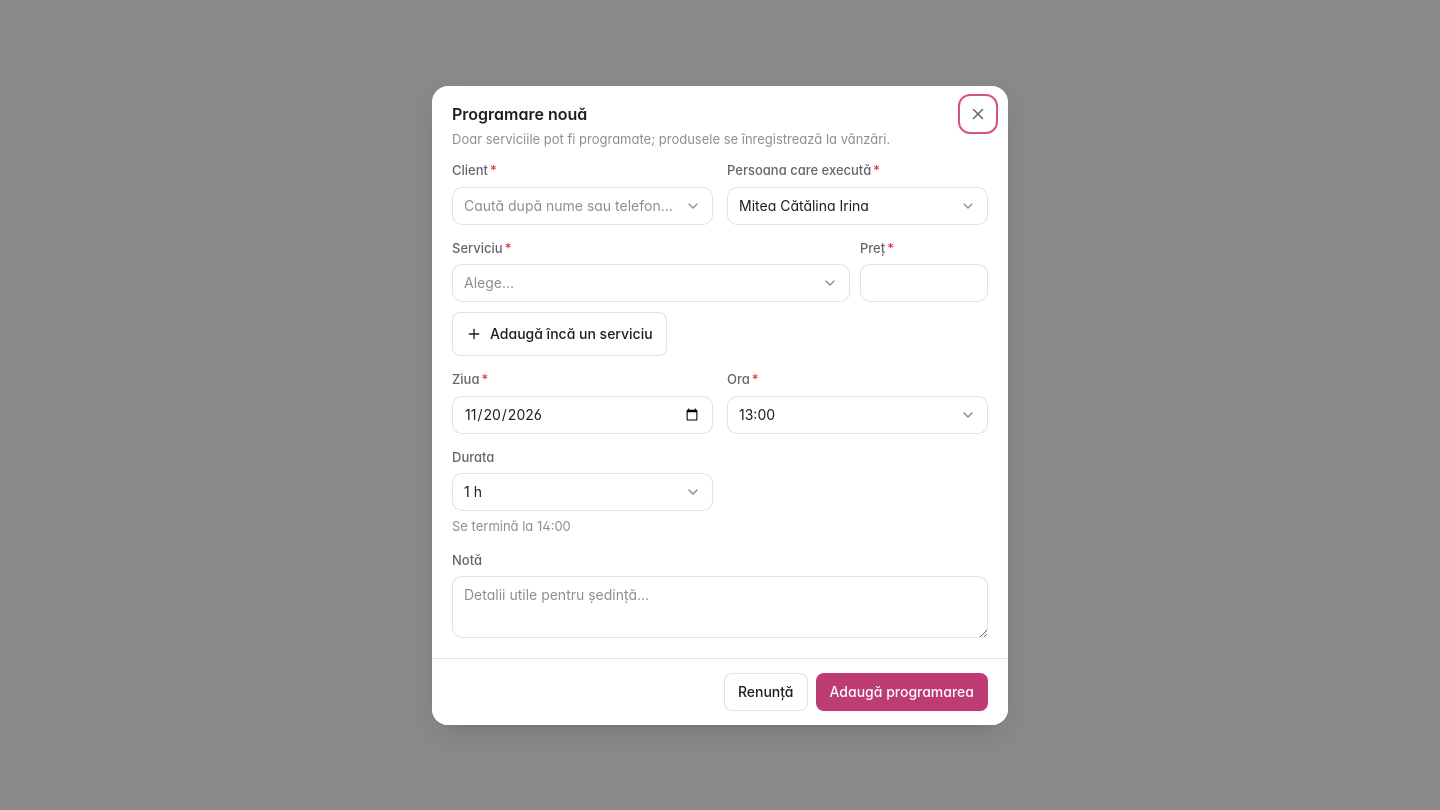
Test: serviciu nou din formularul de programare › administratorul îl creează cu durata și prețul implicite
Click the dropdown named "Serviciu" at (489, 282), box [452,264,850,302]
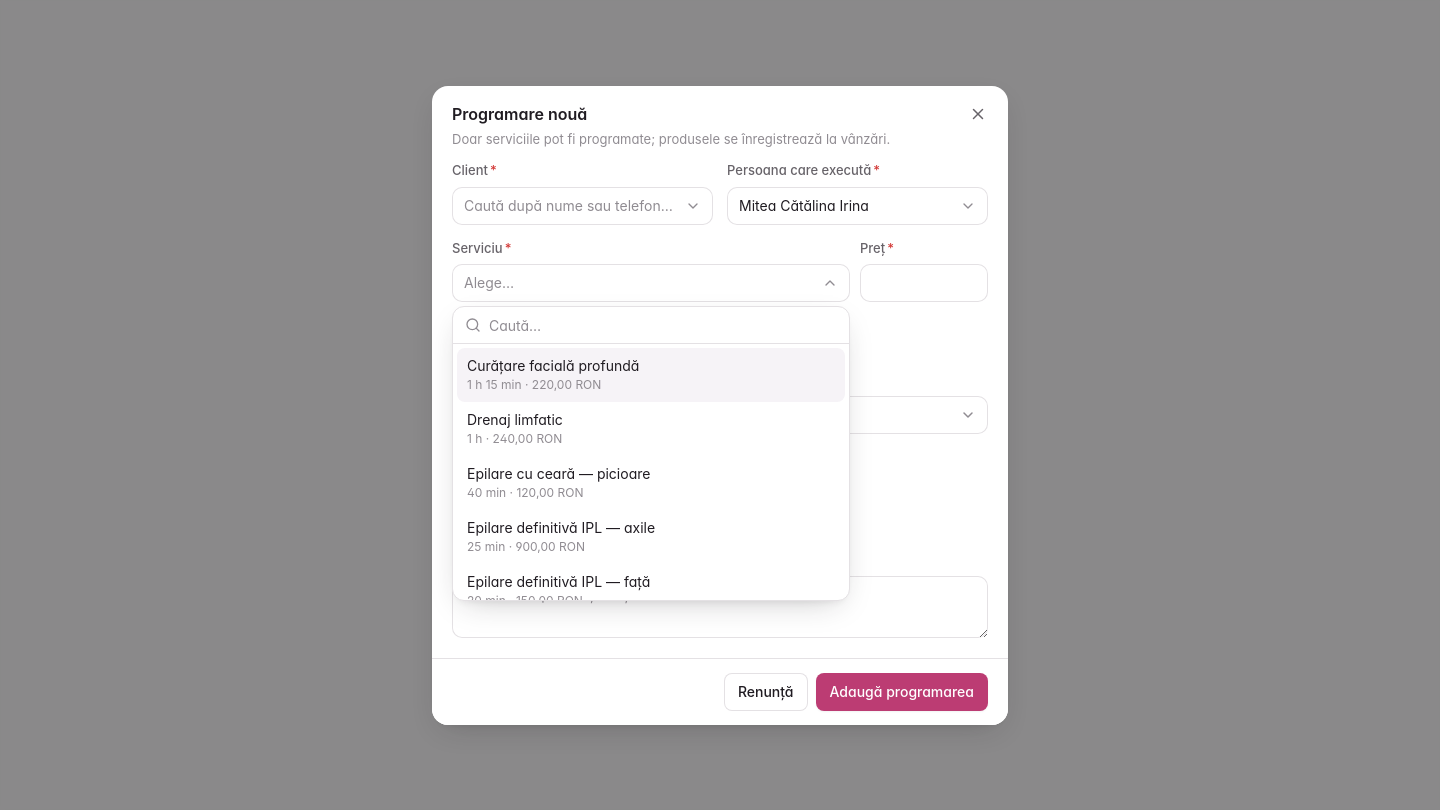
Type "Terapie Test Rapid" into the field named "Caută în listă" at (663, 325), box [489,307,837,343]
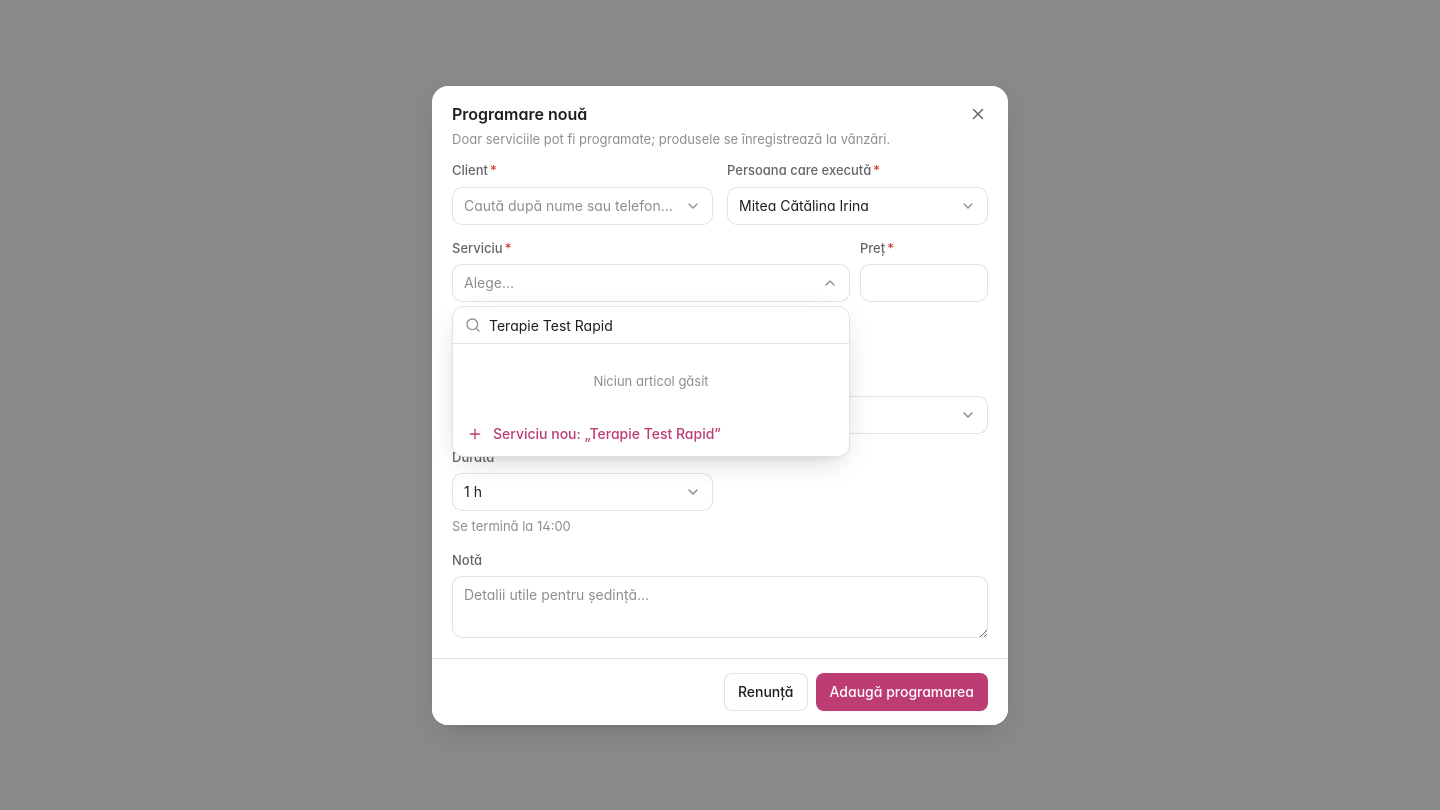
Click the button "Serviciu nou: „Terapie Test Rapid”" at (651, 434), box [457,416,845,452]
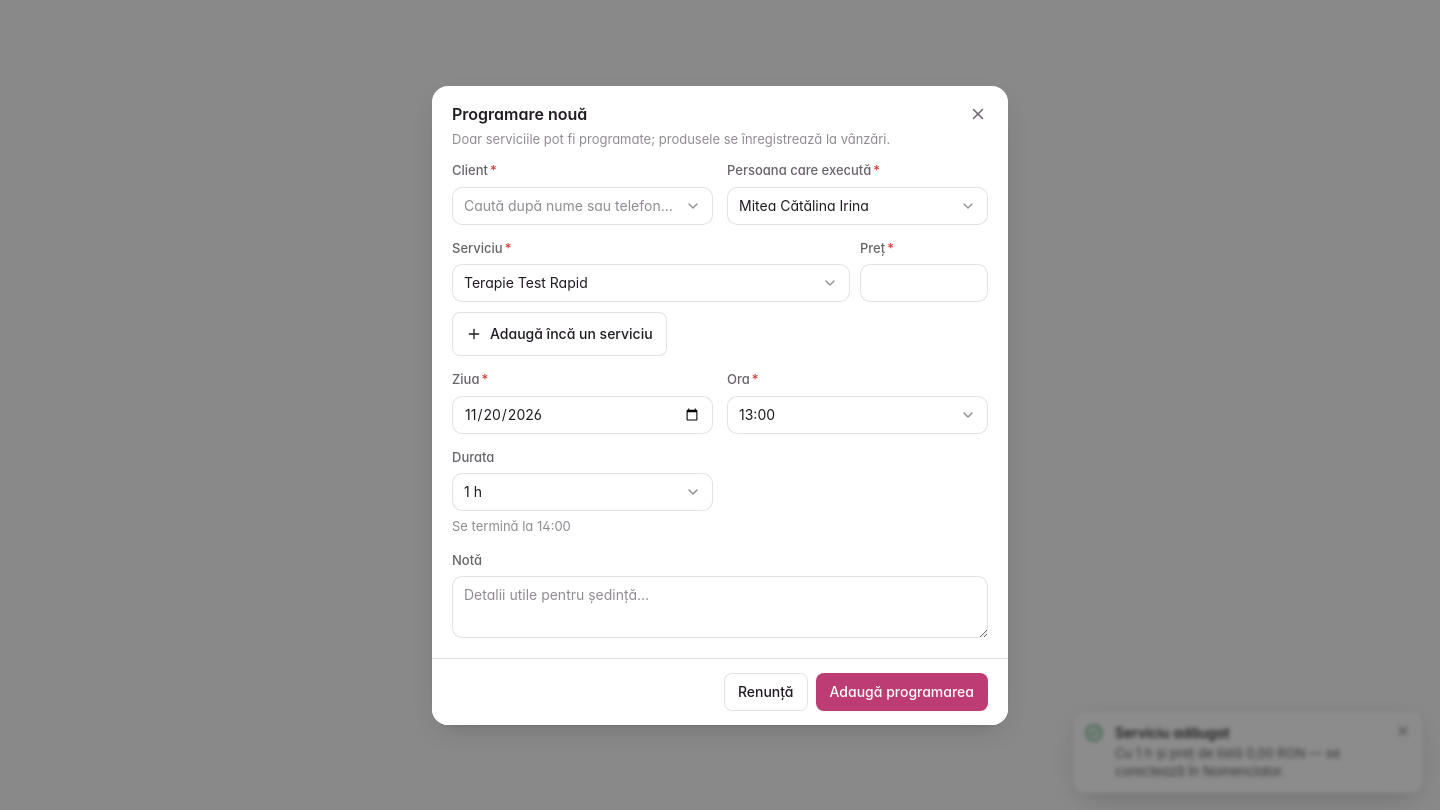
Expected: the dropdown named "Serviciu" reads "Terapie Test Rapid", [452,264,850,302]
